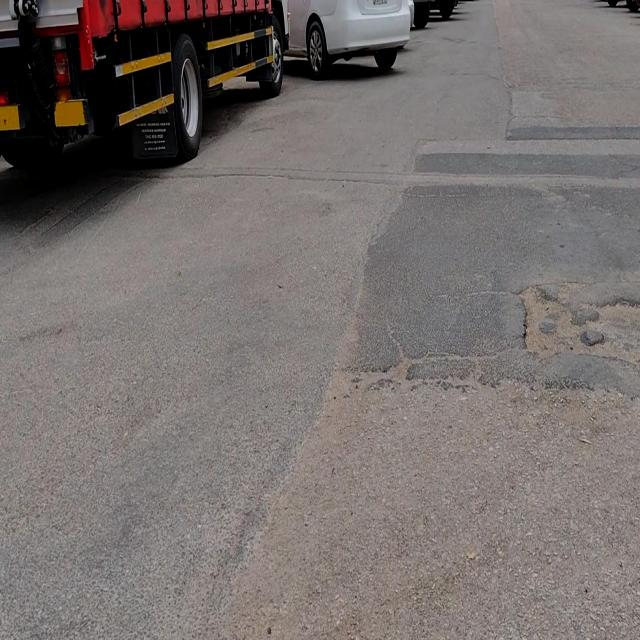Potholes: (515, 280, 604, 361), (598, 300, 640, 369)
